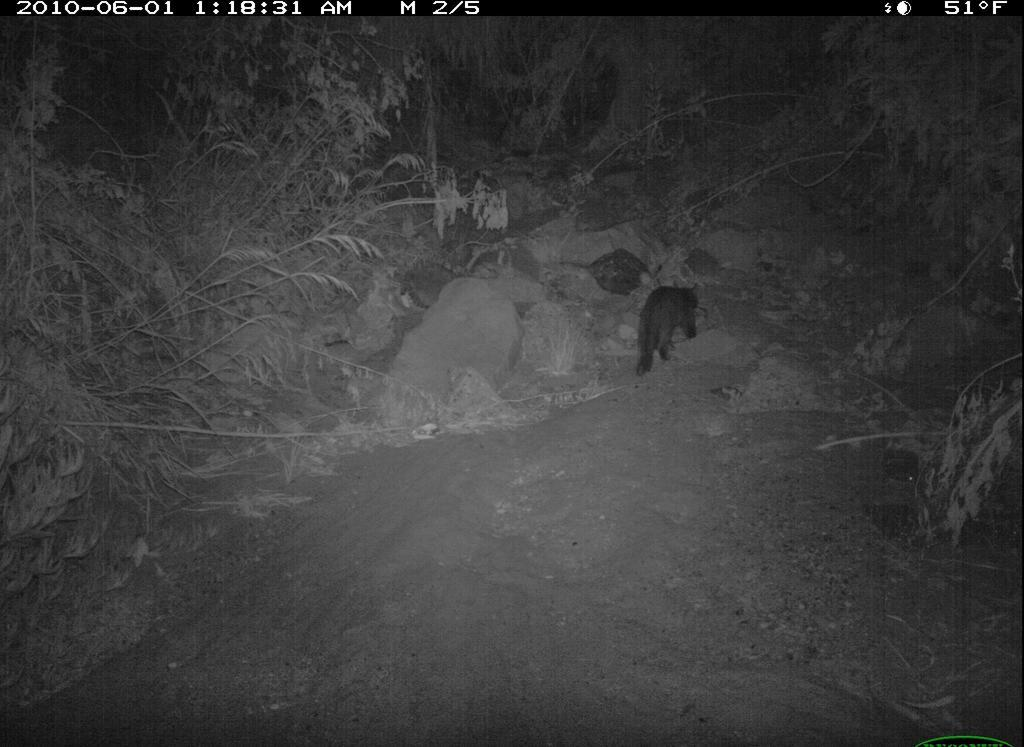cat: (623, 264, 712, 387)
